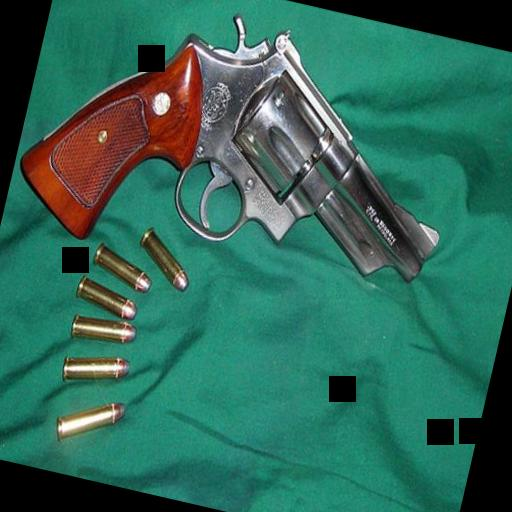Handgun: (5, 0, 479, 312)
